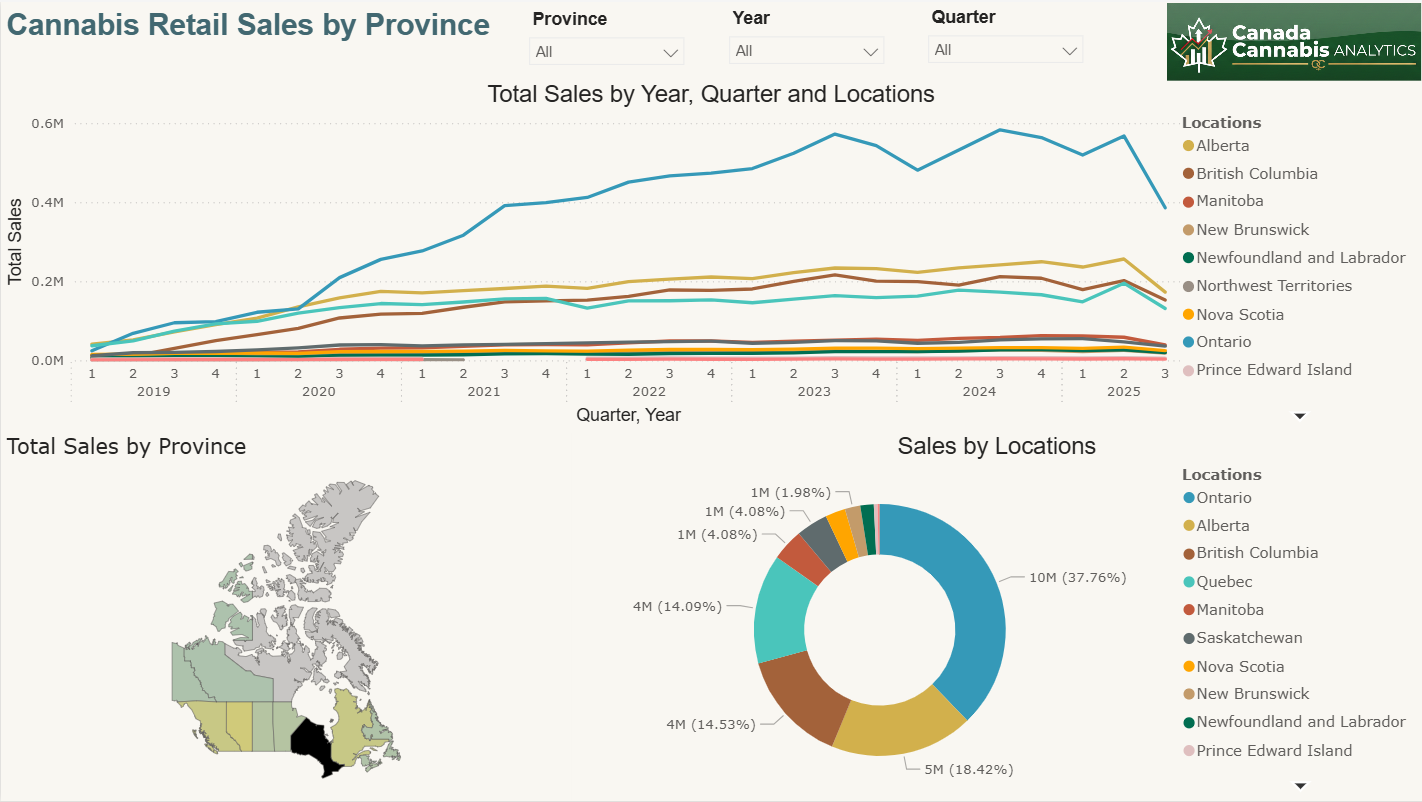

The dashboard page shown, as its layout file describes it:
{"tool":"powerbi","page":{"name":"Cannabis Retail Sales by Province","canvas":[1280,720],"ordinal":2},"visuals":[{"type":"lineChart","fields":{"Y":["Sum(Cannabis Retail Sales.VALUE)"],"Category":["Cannabis Retail Sales.Year","Cannabis Retail Sales.Quater"],"Series":["Cannabis Retail Sales.Locations"]},"box":[0,71,1280,314.7],"z":2000},{"type":"donutChart","title":"Sales by Locations","fields":{"Y":["Sum(Cannabis Retail Sales.VALUE)"],"Category":["Cannabis Retail Sales.Locations"]},"box":[514.3,388.6,765.7,331],"z":3000},{"type":"shapeMap","title":"Total Sales by Province","fields":{"Category":["Cannabis Retail Sales.Locations"]},"box":[0,388.6,514.3,331],"z":6000},{"type":"textbox","box":[0,1,448.1,72],"z":8000},{"type":"slicer","fields":{"Values":["Cannabis Retail Sales.Year"]},"box":[645.7,1,160.2,71],"z":9000},{"type":"slicer","fields":{"Values":["Cannabis Retail Sales.Quarter"]},"box":[825.1,0,160.2,71],"z":10000},{"type":"slicer","fields":{"Values":["Cannabis Retail Sales.Locations"]},"box":[466.3,1.9,160.2,71],"z":11000},{"type":"image","box":[1050.7,1,229.3,70],"z":11001}]}

Visuals, with their boxes in screenshot pixels (x1, y1, x2, y2), scaled from the page's 1280x720 canvas onto the 1422x802 screenshot:
lineChart - Sum(Cannabis Retail Sales.VALUE) x Cannabis Retail Sales.Year: (x1=0, y1=79, x2=1421, y2=430)
"Sales by Locations" donutChart: (x1=571, y1=433, x2=1421, y2=801)
"Total Sales by Province" shapeMap: (x1=0, y1=433, x2=571, y2=801)
textbox: (x1=0, y1=1, x2=498, y2=81)
slicer - Cannabis Retail Sales.Year: (x1=717, y1=1, x2=895, y2=80)
slicer - Cannabis Retail Sales.Quarter: (x1=917, y1=0, x2=1095, y2=79)
slicer - Cannabis Retail Sales.Locations: (x1=518, y1=2, x2=696, y2=81)
image: (x1=1167, y1=1, x2=1421, y2=79)
